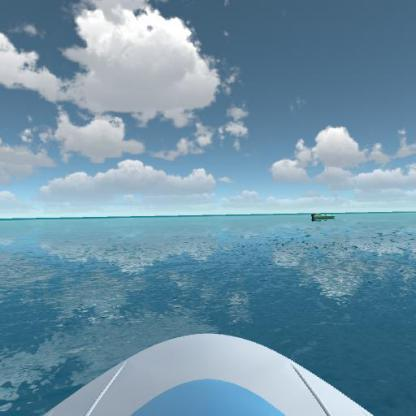usv0: (308, 210, 337, 223)
